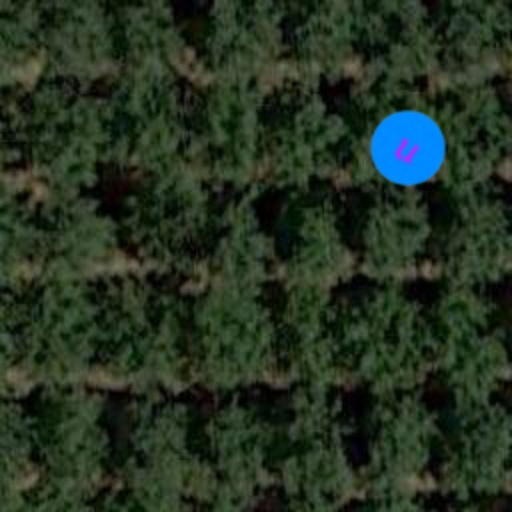circle: (358, 98, 458, 198)
